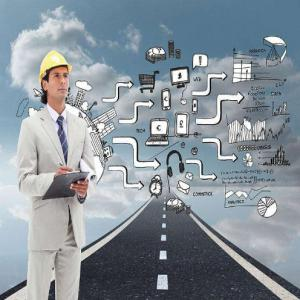yellow: (38, 51, 73, 106)
